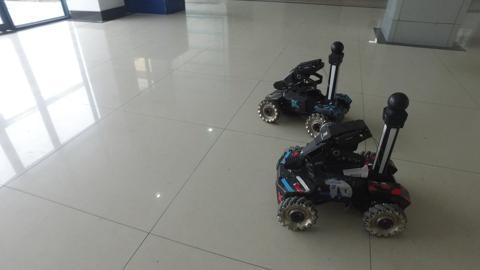chariot: (267, 88, 426, 239), (253, 38, 356, 143)
